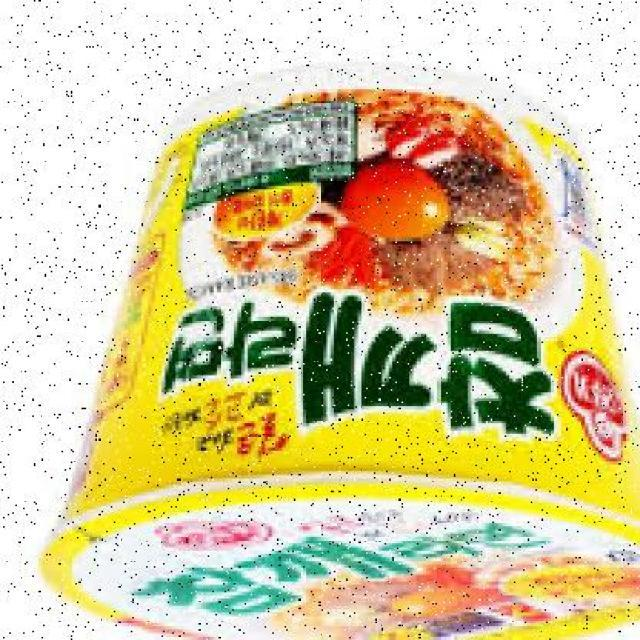Miscellaneous: (44, 78, 640, 639)
